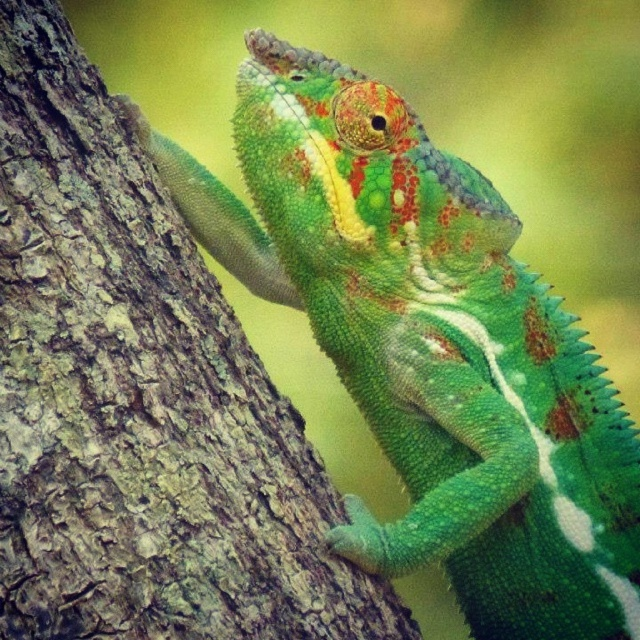Lizard: (164, 30, 611, 635)
